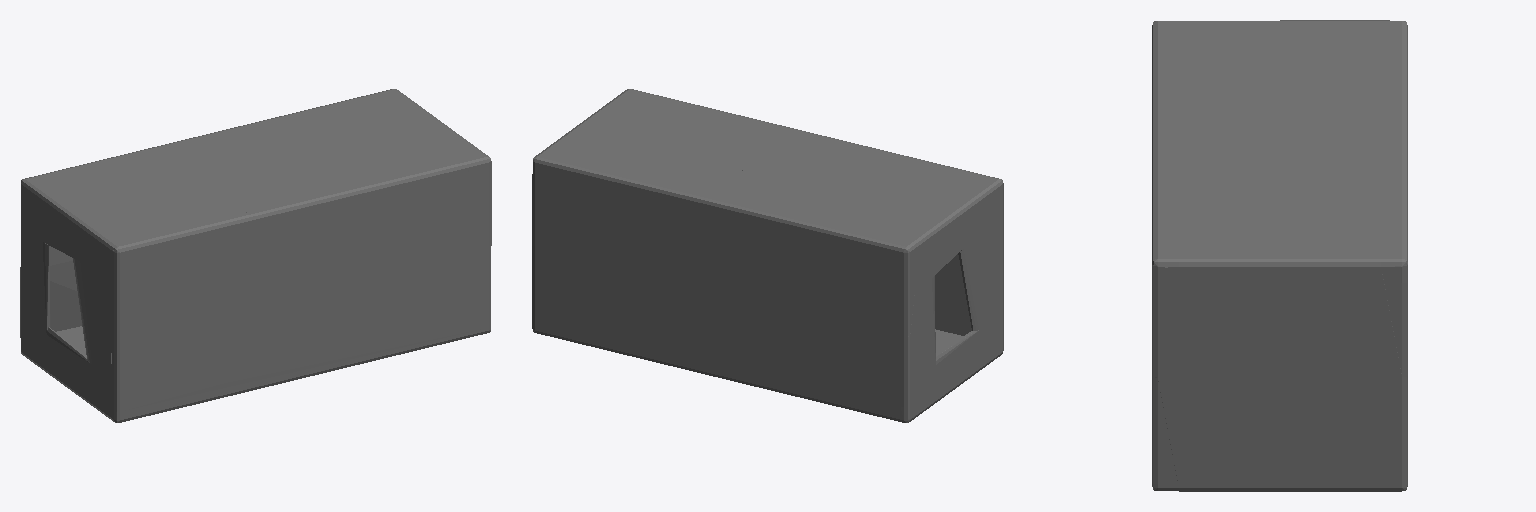
The robot description file, URDF, robot "square_table_leg4_w275_sdf_hybrid_matchedmass":
<?xml version="1.0" encoding="utf-8"?>
<robot name="square_table_leg4_w275_sdf_hybrid_matchedmass">
  <!-- Body-width variant: body cross-section 27.5 x 27.5 mm (original 30), same length, same thread.
       Generated by tools/peg_variants/make_leg4_width_variants.py. -->
  <link name="base_link">
    <inertial>
      <mass value="0.022750"/>
      <origin xyz="0.004744 0.000000 -0.000001" rpy="0 0 0"/>
      <inertia ixx="2.158330e-06" ixy="0.000000e+00" ixz="0.000000e+00" iyy="1.228796e-05" iyz="0.000000e+00" izz="1.228748e-05"/>
    </inertial>
  </link>
  <material name="thread">
    <color rgba="0.95 0.55 0.10 1.0"/>
  </material>
  <material name="body">
    <color rgba="0.50 0.50 0.50 1.0"/>
  </material>
  <link name="thread_link">
    <visual>
      <origin xyz="0 0 0" rpy="0 0 0"/>
      <geometry><mesh filename="../../sdf_hybrid/square_table_leg4_thread.obj" scale="1 1 1"/></geometry>
      <material name="thread"/>
    </visual>
    <collision>
      <origin xyz="0 0 0" rpy="0 0 0"/>
      <geometry><mesh filename="../../sdf_hybrid/square_table_leg4_thread.obj" scale="1 1 1"/></geometry>
      <sdf resolution="256"/>
    </collision>
  </link>
  <joint name="base_to_thread" type="fixed">
    <parent link="base_link"/>
    <child link="thread_link"/>
    <origin xyz="0 0 0" rpy="0 0 0"/>
  </joint>
  <link name="body_link">
    <visual><origin xyz="0 0 0" rpy="0 0 0"/><geometry><mesh filename="body_coacd/decomp_0.obj" scale="1 1 1"/></geometry><material name="body"/></visual>
    <collision><origin xyz="0 0 0" rpy="0 0 0"/><geometry><mesh filename="body_coacd/decomp_0.obj" scale="1 1 1"/></geometry></collision>
    <visual><origin xyz="0 0 0" rpy="0 0 0"/><geometry><mesh filename="body_coacd/decomp_1.obj" scale="1 1 1"/></geometry><material name="body"/></visual>
    <collision><origin xyz="0 0 0" rpy="0 0 0"/><geometry><mesh filename="body_coacd/decomp_1.obj" scale="1 1 1"/></geometry></collision>
    <visual><origin xyz="0 0 0" rpy="0 0 0"/><geometry><mesh filename="body_coacd/decomp_2.obj" scale="1 1 1"/></geometry><material name="body"/></visual>
    <collision><origin xyz="0 0 0" rpy="0 0 0"/><geometry><mesh filename="body_coacd/decomp_2.obj" scale="1 1 1"/></geometry></collision>
    <visual><origin xyz="0 0 0" rpy="0 0 0"/><geometry><mesh filename="body_coacd/decomp_3.obj" scale="1 1 1"/></geometry><material name="body"/></visual>
    <collision><origin xyz="0 0 0" rpy="0 0 0"/><geometry><mesh filename="body_coacd/decomp_3.obj" scale="1 1 1"/></geometry></collision>
    <visual><origin xyz="0 0 0" rpy="0 0 0"/><geometry><mesh filename="body_coacd/decomp_4.obj" scale="1 1 1"/></geometry><material name="body"/></visual>
    <collision><origin xyz="0 0 0" rpy="0 0 0"/><geometry><mesh filename="body_coacd/decomp_4.obj" scale="1 1 1"/></geometry></collision>
    <visual><origin xyz="0 0 0" rpy="0 0 0"/><geometry><mesh filename="body_coacd/decomp_5.obj" scale="1 1 1"/></geometry><material name="body"/></visual>
    <collision><origin xyz="0 0 0" rpy="0 0 0"/><geometry><mesh filename="body_coacd/decomp_5.obj" scale="1 1 1"/></geometry></collision>
    <visual><origin xyz="0 0 0" rpy="0 0 0"/><geometry><mesh filename="body_coacd/decomp_6.obj" scale="1 1 1"/></geometry><material name="body"/></visual>
    <collision><origin xyz="0 0 0" rpy="0 0 0"/><geometry><mesh filename="body_coacd/decomp_6.obj" scale="1 1 1"/></geometry></collision>
    <visual><origin xyz="0 0 0" rpy="0 0 0"/><geometry><mesh filename="body_coacd/decomp_7.obj" scale="1 1 1"/></geometry><material name="body"/></visual>
    <collision><origin xyz="0 0 0" rpy="0 0 0"/><geometry><mesh filename="body_coacd/decomp_7.obj" scale="1 1 1"/></geometry></collision>
    <visual><origin xyz="0 0 0" rpy="0 0 0"/><geometry><mesh filename="body_coacd/decomp_8.obj" scale="1 1 1"/></geometry><material name="body"/></visual>
    <collision><origin xyz="0 0 0" rpy="0 0 0"/><geometry><mesh filename="body_coacd/decomp_8.obj" scale="1 1 1"/></geometry></collision>
    <visual><origin xyz="0 0 0" rpy="0 0 0"/><geometry><mesh filename="body_coacd/decomp_9.obj" scale="1 1 1"/></geometry><material name="body"/></visual>
    <collision><origin xyz="0 0 0" rpy="0 0 0"/><geometry><mesh filename="body_coacd/decomp_9.obj" scale="1 1 1"/></geometry></collision>
    <visual><origin xyz="0 0 0" rpy="0 0 0"/><geometry><mesh filename="body_coacd/decomp_10.obj" scale="1 1 1"/></geometry><material name="body"/></visual>
    <collision><origin xyz="0 0 0" rpy="0 0 0"/><geometry><mesh filename="body_coacd/decomp_10.obj" scale="1 1 1"/></geometry></collision>
    <visual><origin xyz="0 0 0" rpy="0 0 0"/><geometry><mesh filename="body_coacd/decomp_11.obj" scale="1 1 1"/></geometry><material name="body"/></visual>
    <collision><origin xyz="0 0 0" rpy="0 0 0"/><geometry><mesh filename="body_coacd/decomp_11.obj" scale="1 1 1"/></geometry></collision>
  </link>
  <joint name="base_to_body" type="fixed">
    <parent link="base_link"/>
    <child link="body_link"/>
    <origin xyz="0 0 0" rpy="0 0 0"/>
  </joint>
</robot>

--- Facts derived from the render (not from the file) ---
Views: 3 orthographic renders of the robot side by side, from view 1: azimuth 30°, elevation 25°; view 2: azimuth 150°, elevation 25°; view 3: azimuth 270°, elevation 25°.
Model square_table_leg4_w275_sdf_hybrid_matchedmass with 3 links and 2 joints (2 fixed), rooted at base_link, posed every joint at zero.
Visible links, largest first — view 1: body_link; view 2: body_link; view 3: body_link.
Link boxes in pixels (left/top/right/bottom): body_link: left=20, top=89, right=491, bottom=422; body_link: left=532, top=89, right=1003, bottom=422; body_link: left=1152, top=20, right=1407, bottom=491.
Bounding box of the posed robot: 0.0632 × 0.0282 × 0.0282 m (x, y, z).
Meshes: 13 distinct files referenced, 12 mesh visuals loaded (12 OBJ); not drawn: 1 (reference not matched to a file when rendering).
